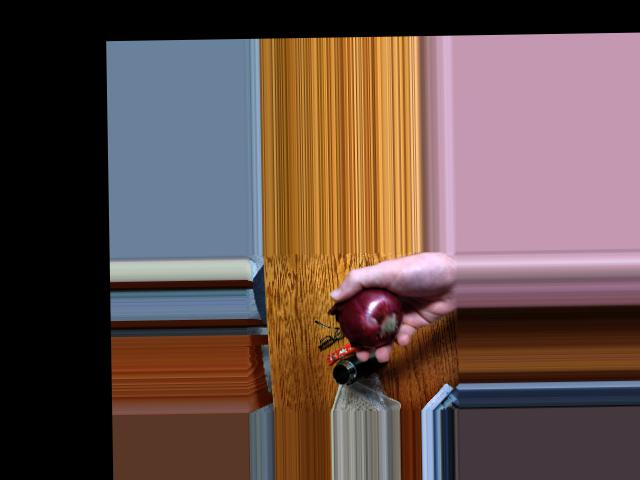onion: (340, 288, 400, 346)
